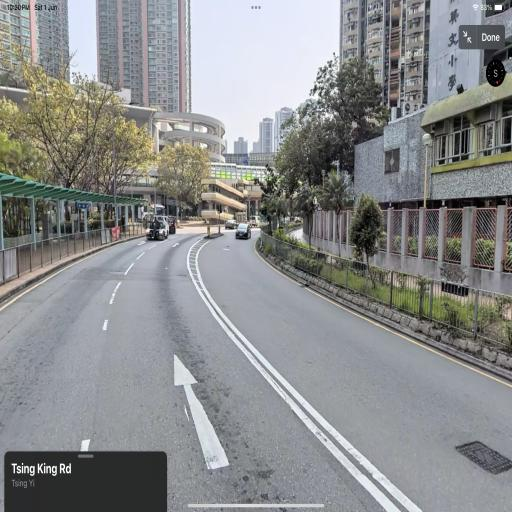Roads: (0, 223, 512, 512)
Trees: (0, 79, 133, 227), (342, 188, 387, 285), (178, 140, 212, 244)
